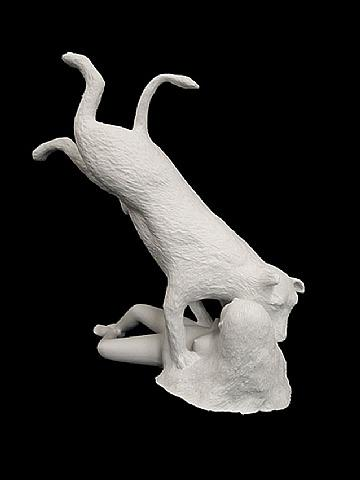person: (94, 299, 293, 413)
